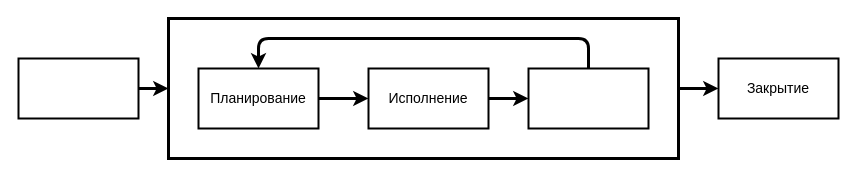
The diagram is 856 pixels wide and 177 high, and some of its shapes have lost their labels. The shapes that lost their labels are listed below. From the top down, each one's centre as x and y in pixels, then its label:
At (78,88): "Инициация".
At (588,98): "Мониторинг контроль".
